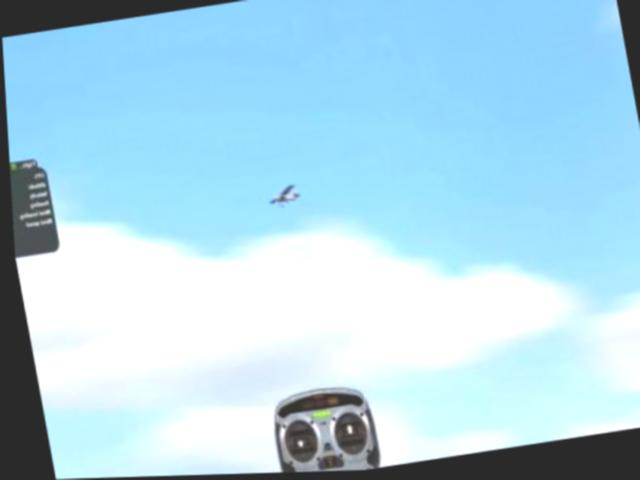uav: (257, 175, 311, 218)
